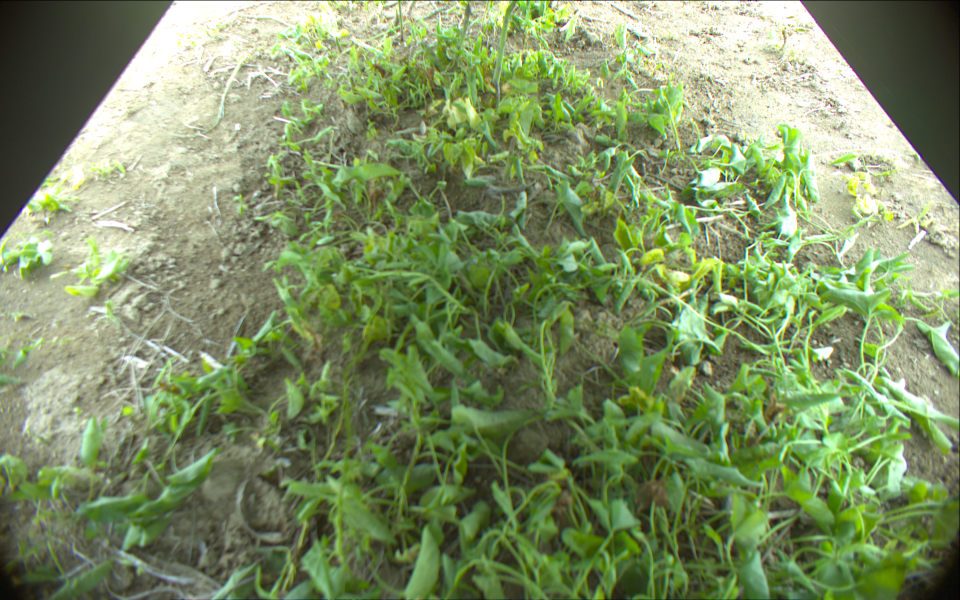aspa: (173, 53, 249, 142), (493, 1, 516, 106), (455, 1, 473, 74), (397, 1, 407, 43)
